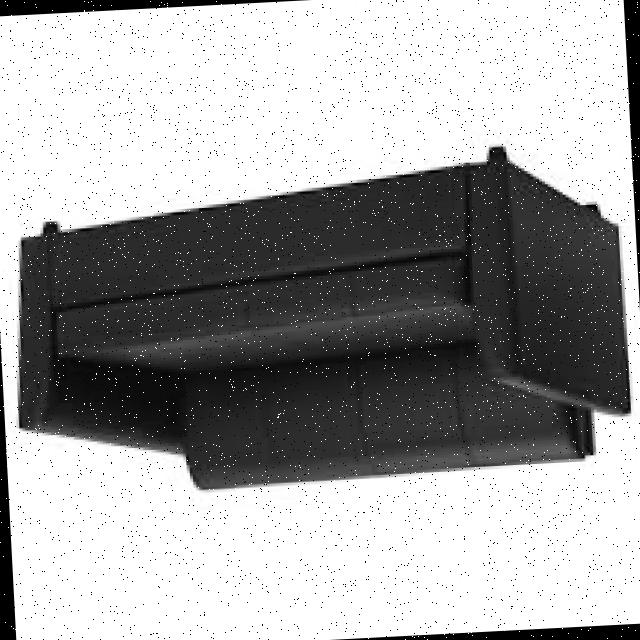Sofa: (0, 100, 640, 586)
